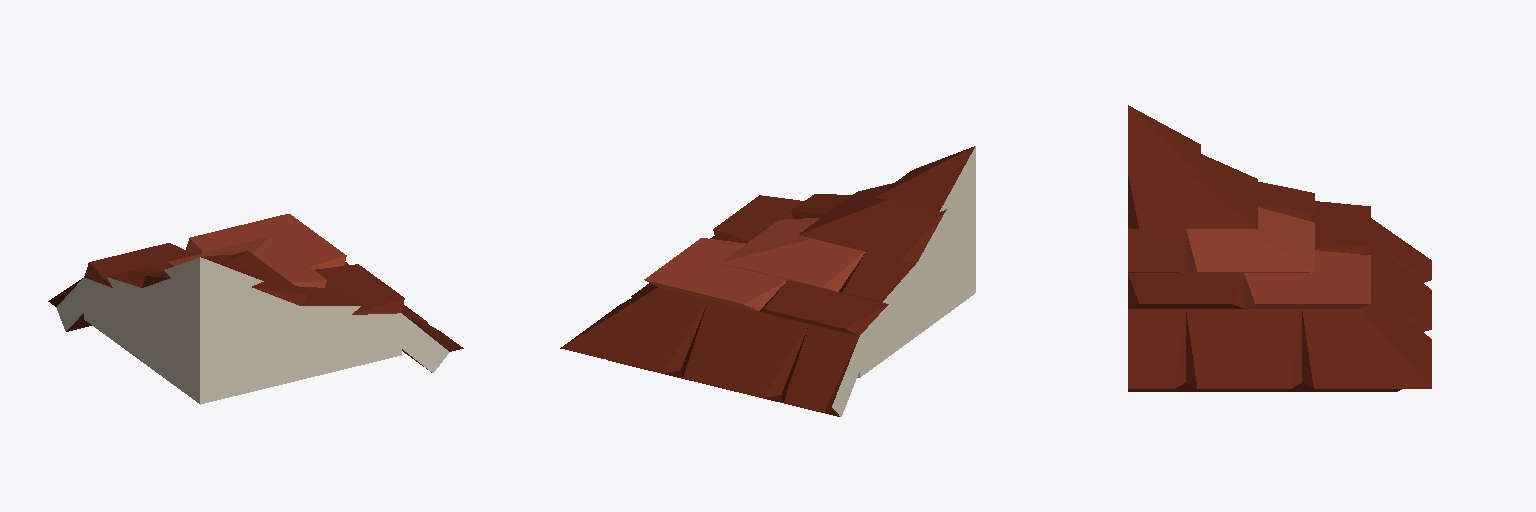
File: Roof_Concave_Corner_Outer_Eave.obj
The picture shows the model from 3 angles: view 1: azimuth 30°, elevation 25°; view 2: azimuth 150°, elevation 25°; view 3: azimuth 270°, elevation 25°; orthographic projection.
Parts seen in each view (by area): view 1: object1; view 2: object1; view 3: object1.
Boxes of the visible parts, <box> form: object1: <box>48,214,463,404</box>; object1: <box>560,146,975,416</box>; object1: <box>1128,105,1431,391</box>.
Size of the model in its own units: 1.31 by 0.8233 by 1.31.